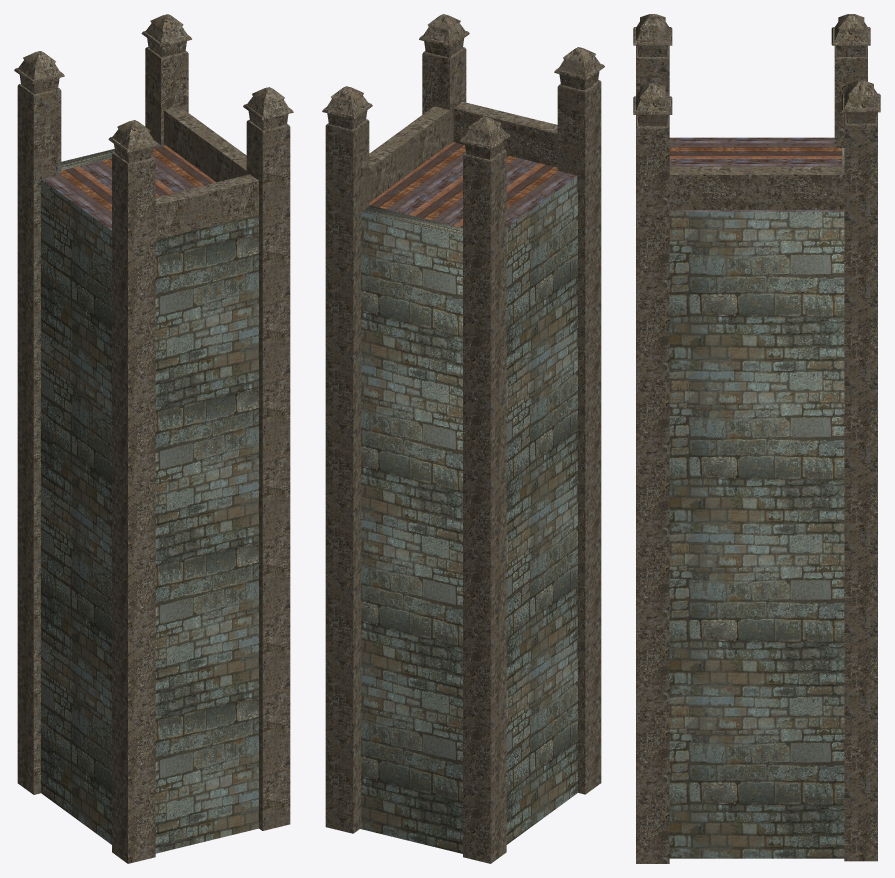
Rendered from köprü parçası.fbx.
3 views of the same model, side by side, from view 1: azimuth 30°, elevation 25°; view 2: azimuth 150°, elevation 25°; view 3: azimuth 270°, elevation 25° (orthographic). The views are drawn at different scales.
Visible parts, largest first — view 1: pCube2207, pCube2207.001, pCube2207.002; view 2: pCube2207, pCube2207.001, pCube2207.002; view 3: pCube2207, pCube2207.001, pCube2207.002.
Part boxes in pixels (<box>): pCube2207: <box>14,51,293,863</box>; pCube2207.001: <box>141,14,191,145</box>; pCube2207.002: <box>164,106,246,182</box>; pCube2207: <box>360,14,604,863</box>; pCube2207.001: <box>322,86,372,833</box>; pCube2207.002: <box>369,106,449,202</box>; pCube2207: <box>633,14,870,863</box>; pCube2207.001: <box>841,80,880,861</box>; pCube2207.002: <box>669,166,844,210</box>.
Bounding box in the file's own units: 0.8717 × 3.67 × 1.06.
Materials: 3 (3 with a texture image).
